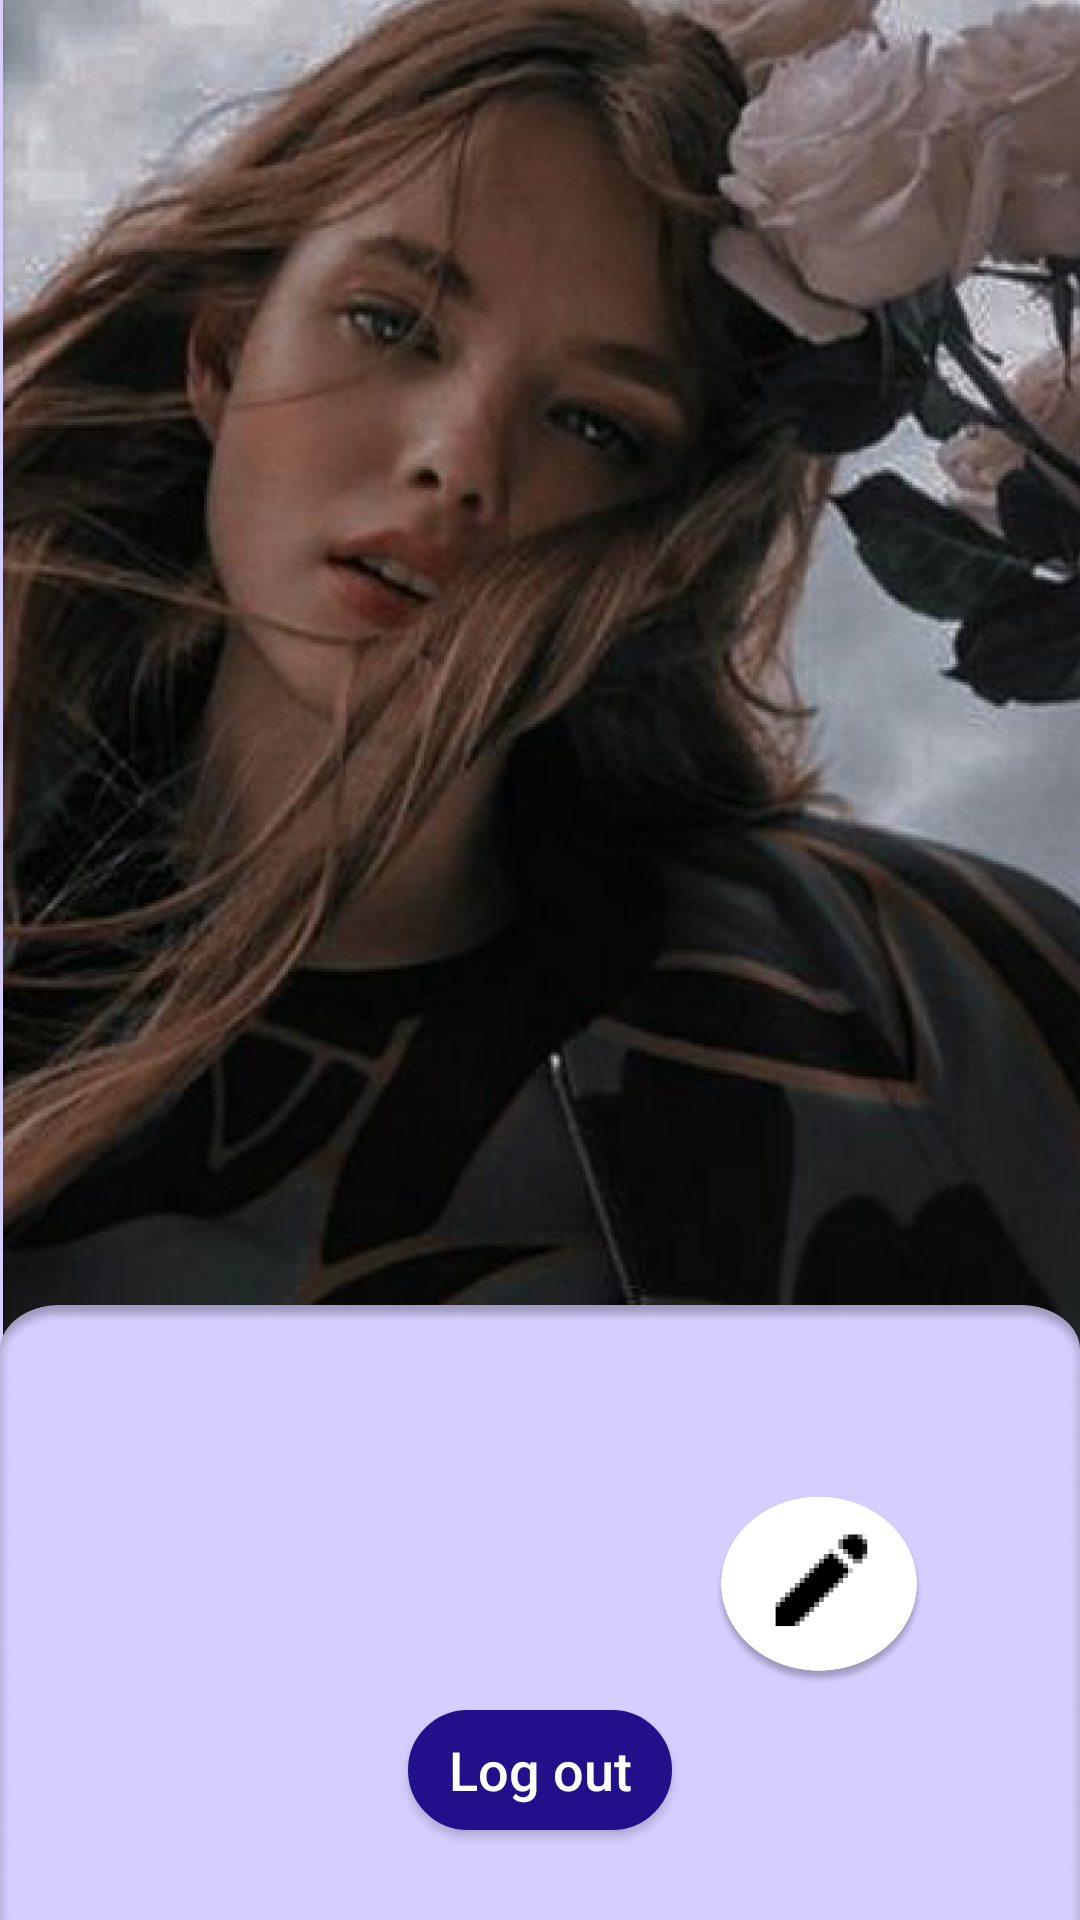

Named icons in this screenshot (1080px x 1920px) and their bounding boxes, (x1, y1, x2, y2):
editprofile: (720, 1497, 918, 1679)
